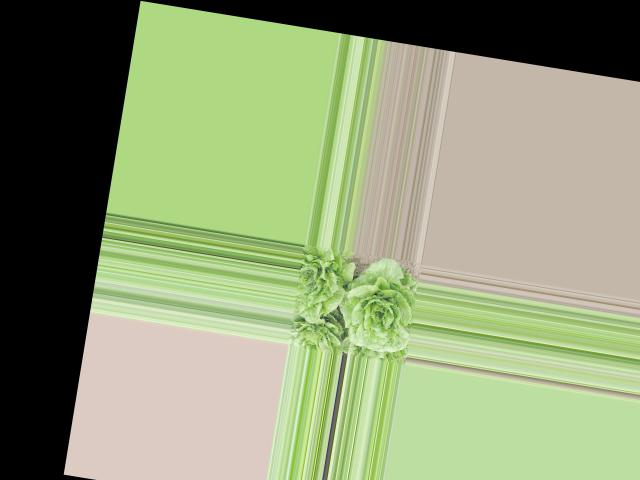lettuce: (290, 246, 350, 327)
